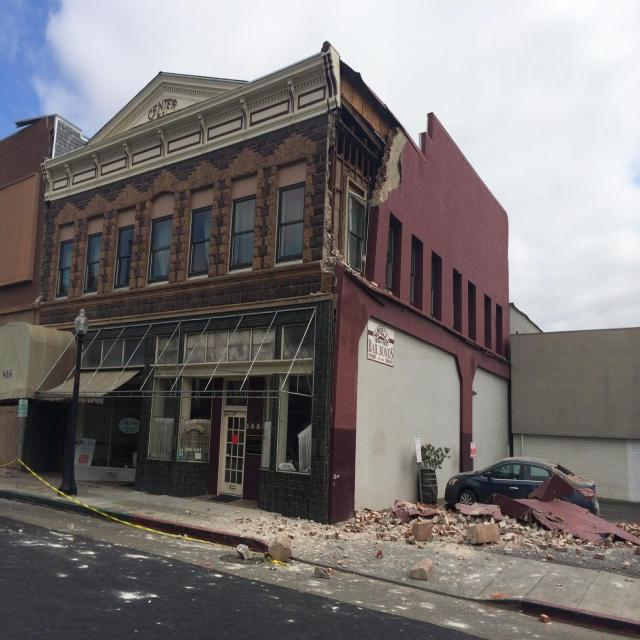damage: (367, 434, 640, 636), (310, 31, 423, 302)
